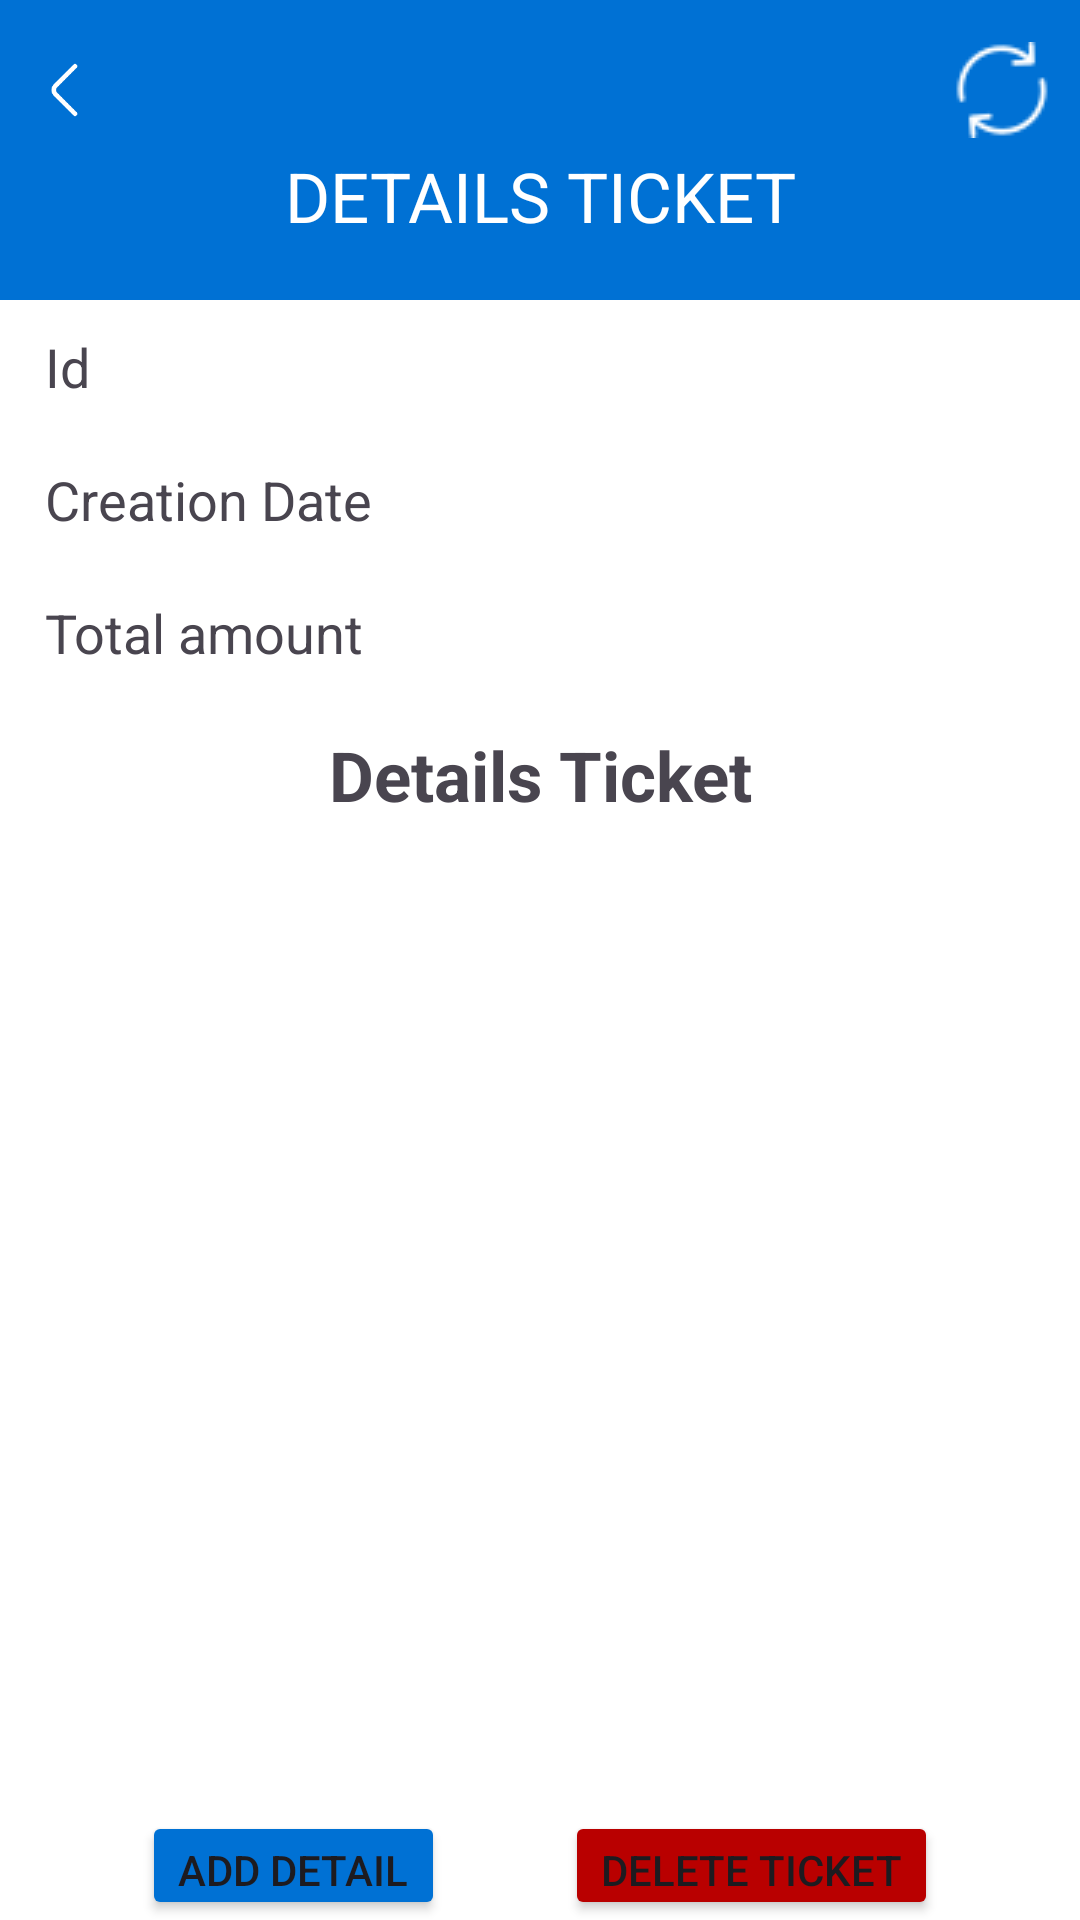

Where to tap for icons on this 1080px x 1920px app screen, as [x,y]:
back: [64,90]
